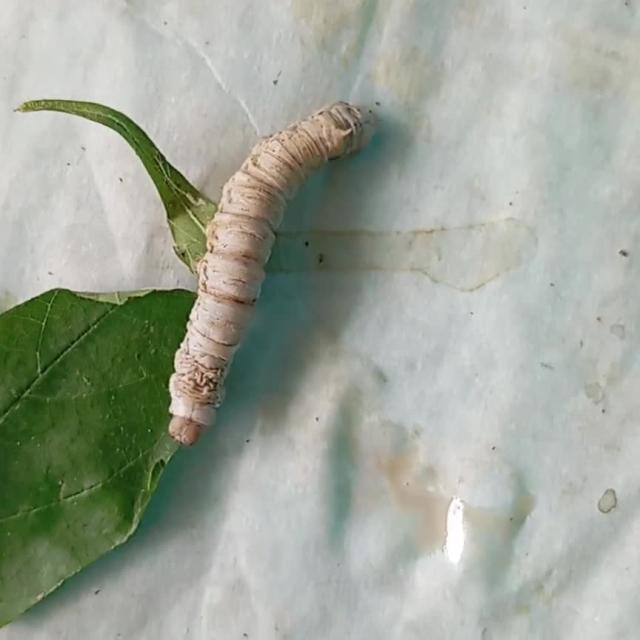Grasserie: (162, 86, 386, 470)
